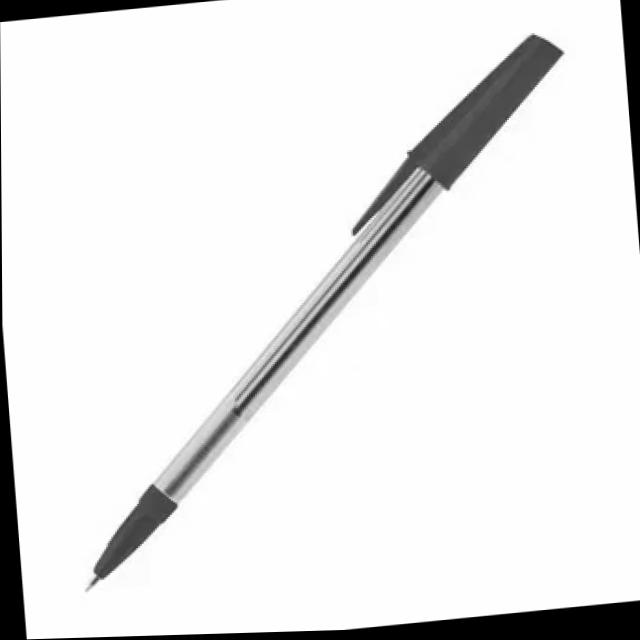pen: (43, 25, 604, 594)
